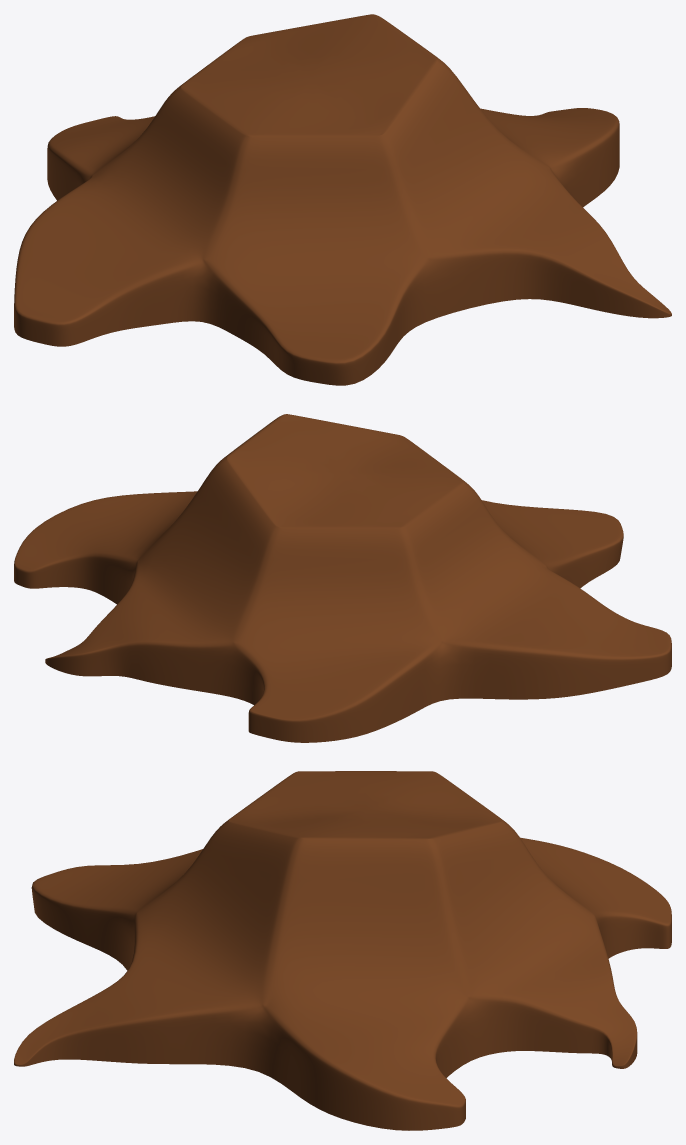
Rendered from tree_1_3.fbx.
3 renders of one model, top to bottom at view 1: azimuth 30°, elevation 25°; view 2: azimuth 150°, elevation 25°; view 3: azimuth 270°, elevation 25°, orthographic. The views are drawn at different scales.
Visible parts, largest first — view 1: Circle.009; view 2: Circle.009; view 3: Circle.009.
Part boxes in pixels (left/top/right/bottom): Circle.009: left=14, top=14, right=671, bottom=385; Circle.009: left=14, top=414, right=671, bottom=742; Circle.009: left=14, top=771, right=671, bottom=1130.
Bounding box in the file's own units: 439 × 116 × 382.
